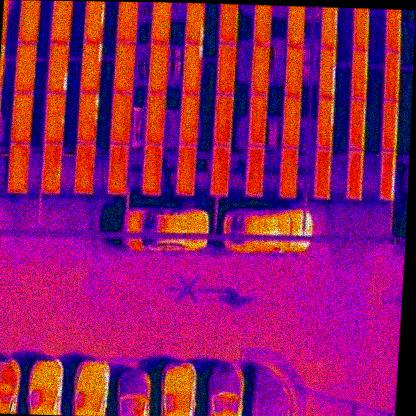Diode: (79, 42, 102, 93), (47, 43, 70, 94), (182, 42, 204, 94), (41, 143, 63, 193), (77, 93, 98, 144), (318, 46, 337, 100), (377, 149, 397, 200), (316, 96, 334, 150), (83, 1, 105, 43), (185, 3, 206, 44)
Hotspot: (43, 92, 66, 145)
Normal: (106, 144, 130, 195), (74, 141, 96, 195), (110, 93, 133, 144), (7, 143, 30, 194), (113, 42, 136, 93), (144, 92, 166, 145), (215, 43, 237, 96), (141, 144, 163, 196), (179, 92, 200, 146), (212, 93, 233, 147), (11, 93, 34, 142), (209, 145, 231, 196), (247, 95, 268, 148), (15, 43, 37, 93), (244, 146, 265, 198), (250, 45, 271, 97), (379, 99, 400, 150), (175, 144, 196, 195), (148, 42, 169, 93), (347, 98, 367, 150), (278, 147, 298, 199), (284, 46, 304, 98), (382, 50, 402, 101), (49, 1, 72, 44), (282, 96, 301, 148), (345, 148, 364, 199), (312, 147, 331, 198), (350, 48, 369, 99), (18, 0, 40, 43), (116, 2, 138, 42), (150, 2, 171, 43), (218, 4, 239, 44), (287, 6, 307, 47), (253, 5, 273, 45), (352, 8, 370, 50), (384, 9, 402, 51), (322, 7, 339, 48)
